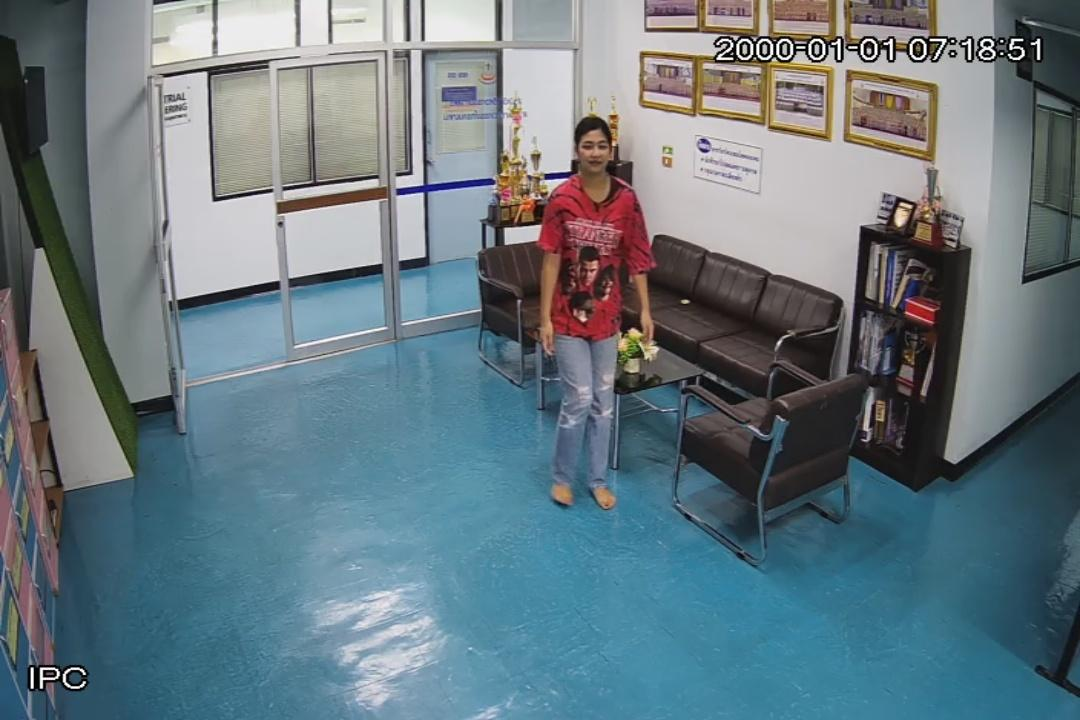normal: (532, 106, 662, 508)
